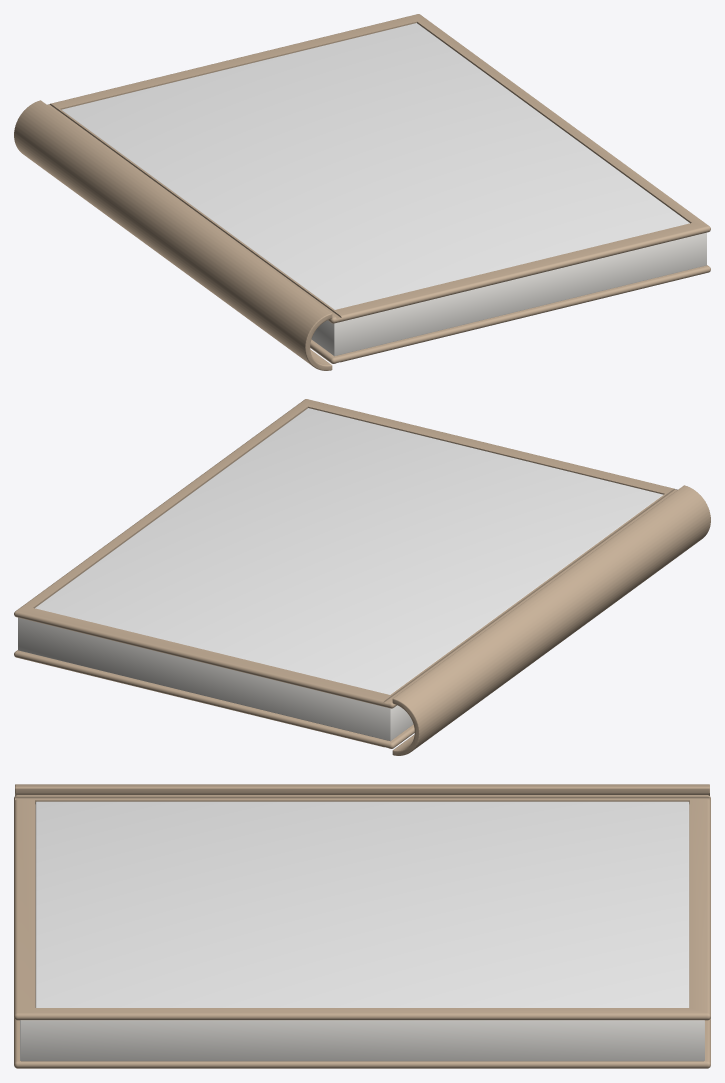
File: photo-full--portrait.glb
3 views of the same model, one above another, from view 1: azimuth 30°, elevation 25°; view 2: azimuth 150°, elevation 25°; view 3: azimuth 270°, elevation 25° (orthographic). The views are drawn at different scales.
Parts seen in each view (by area): view 1: Photo, Spine, CoverFront, Pages, CoverBack; view 2: Photo, Spine, CoverFront, Pages, CoverBack; view 3: Photo, Pages, CoverFront, Spine, CoverBack.
Boxes of the visible parts, box(x1,y1,x2,y2) form: Photo: box(61, 23, 689, 309); Spine: box(14, 100, 332, 370); CoverFront: box(47, 14, 710, 323); Pages: box(311, 232, 706, 356); CoverBack: box(310, 265, 710, 363); Photo: box(35, 408, 663, 694); Spine: box(392, 485, 710, 755); CoverFront: box(14, 399, 677, 708); Pages: box(18, 617, 413, 741); CoverBack: box(14, 650, 414, 748); Photo: box(35, 801, 689, 1007); Pages: box(20, 1020, 704, 1061); CoverFront: box(14, 795, 710, 1020); Spine: box(15, 784, 709, 795); CoverBack: box(14, 1018, 710, 1068).
Size of the model in its own units: 0.3208 by 0.043 by 0.4.
